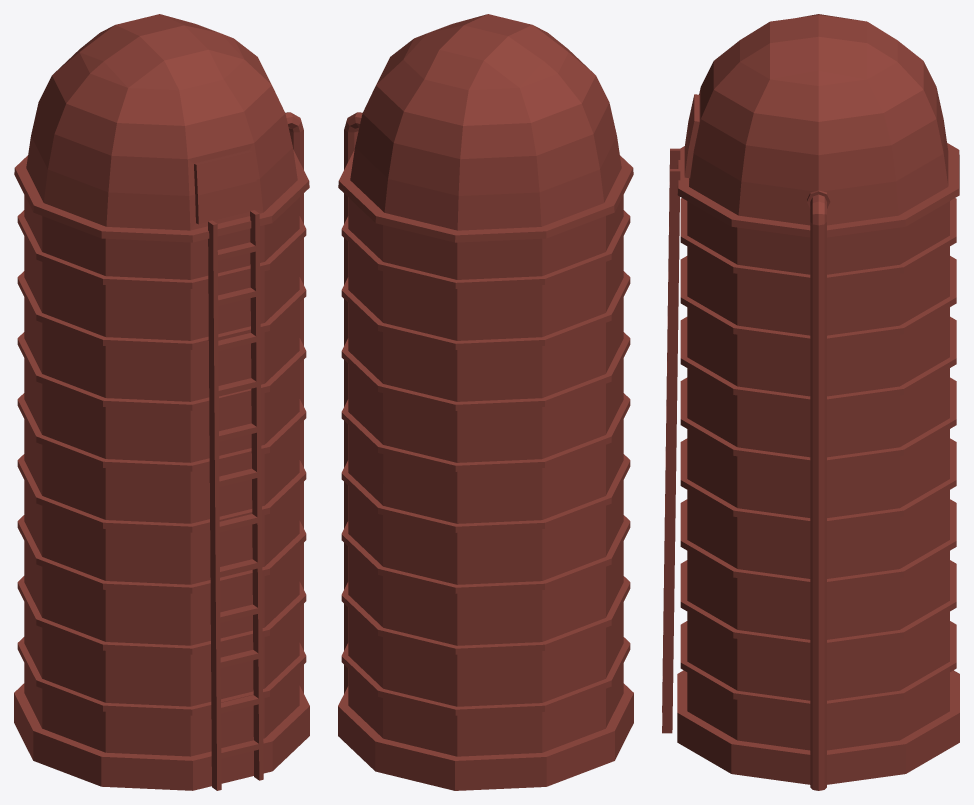
File: Silo.glb
3 renders of one model, left to right at view 1: azimuth 30°, elevation 25°; view 2: azimuth 150°, elevation 25°; view 3: azimuth 270°, elevation 25°, orthographic.
Visible parts, largest first — view 1: Silo_Cylinder.007; view 2: Silo_Cylinder.007; view 3: Silo_Cylinder.007.
Part boxes in pixels (bbox=[...]): Silo_Cylinder.007: bbox=[14, 14, 309, 790]; Silo_Cylinder.007: bbox=[338, 14, 633, 790]; Silo_Cylinder.007: bbox=[662, 14, 959, 790].
Bounding box in the file's own units: 3.67 × 9.07 × 3.51.
